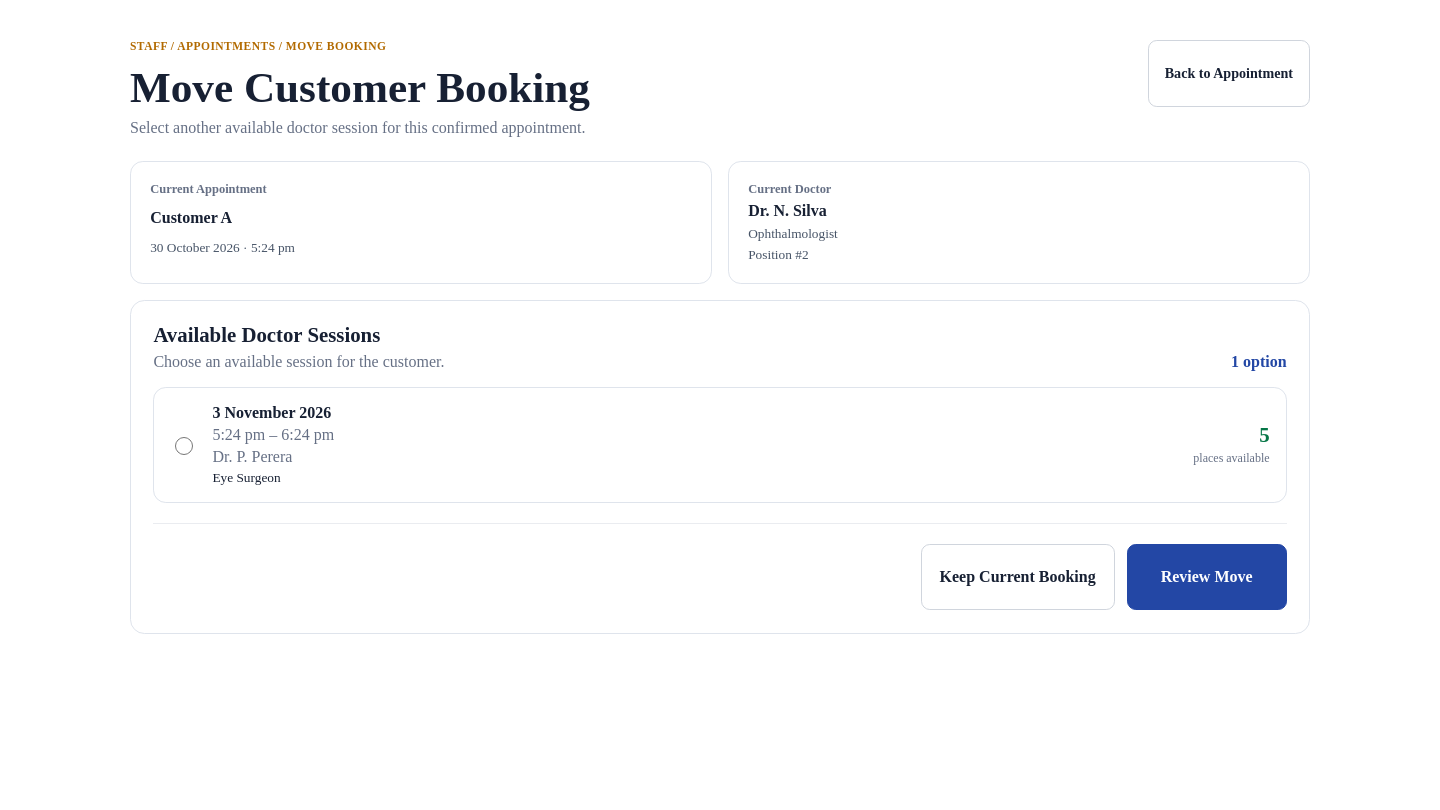
Test: StaffMoveAppointmentPage › shows BOOKING_WINDOW reassignment conflicts safely
Check: the text "Dr. P. Perera" is shown, box [212,448,292,464]
Step 1. Click the radio button → (184, 446), box [175,437,193,455]
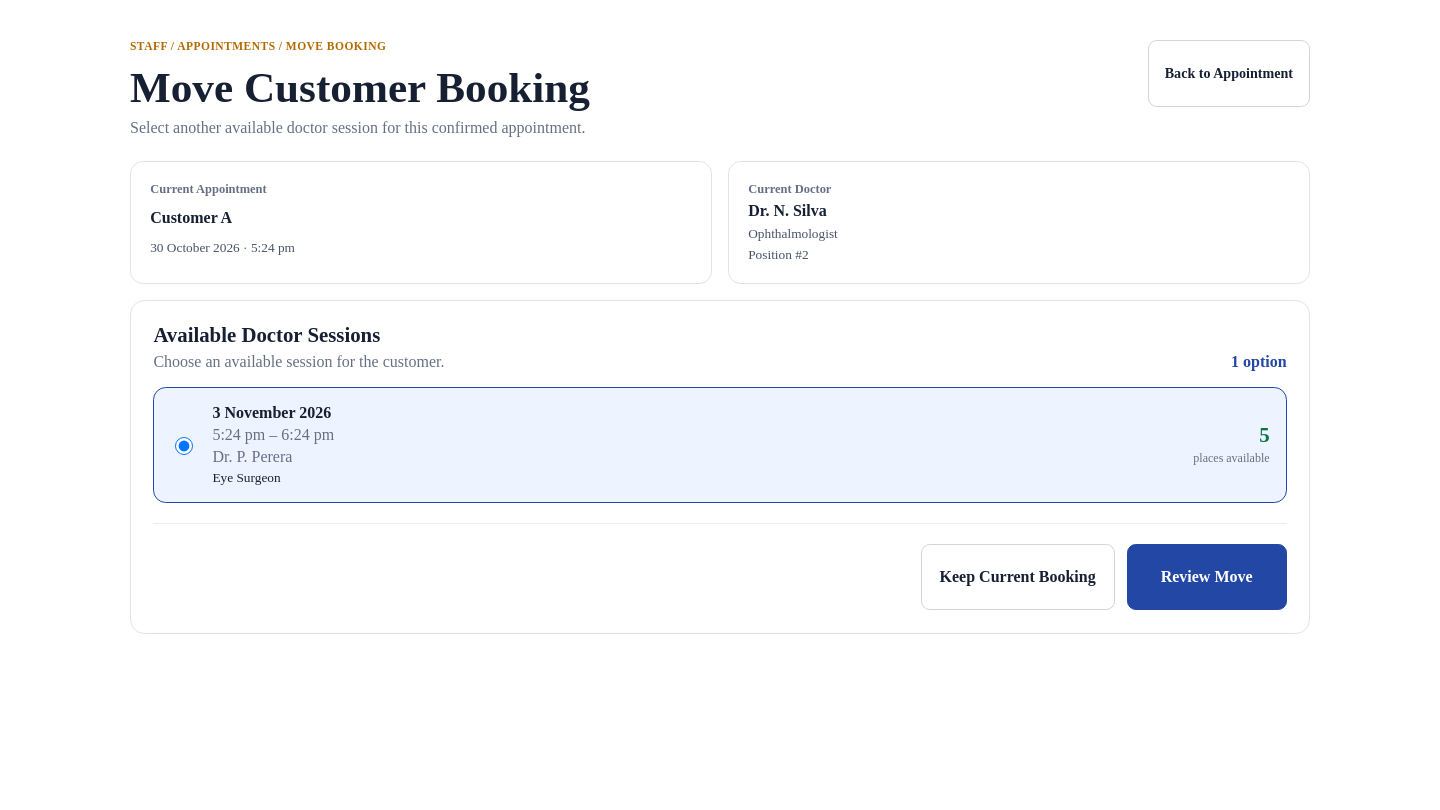
Step 2. Click the button "Review Move" → (1207, 577), box [1127,544,1287,610]
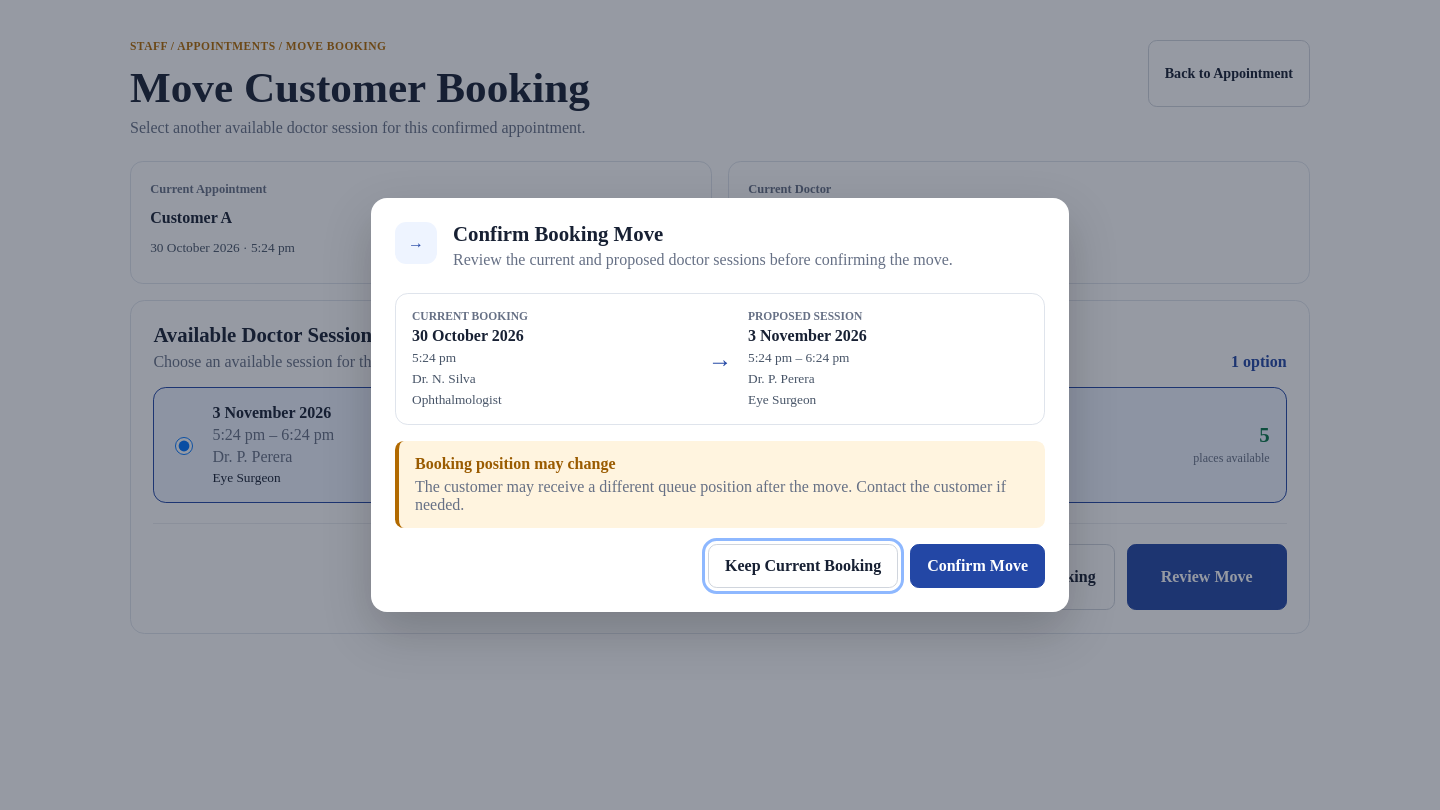
Step 3. Click the button "Confirm Move" → (978, 566), box [910,544,1045,588]
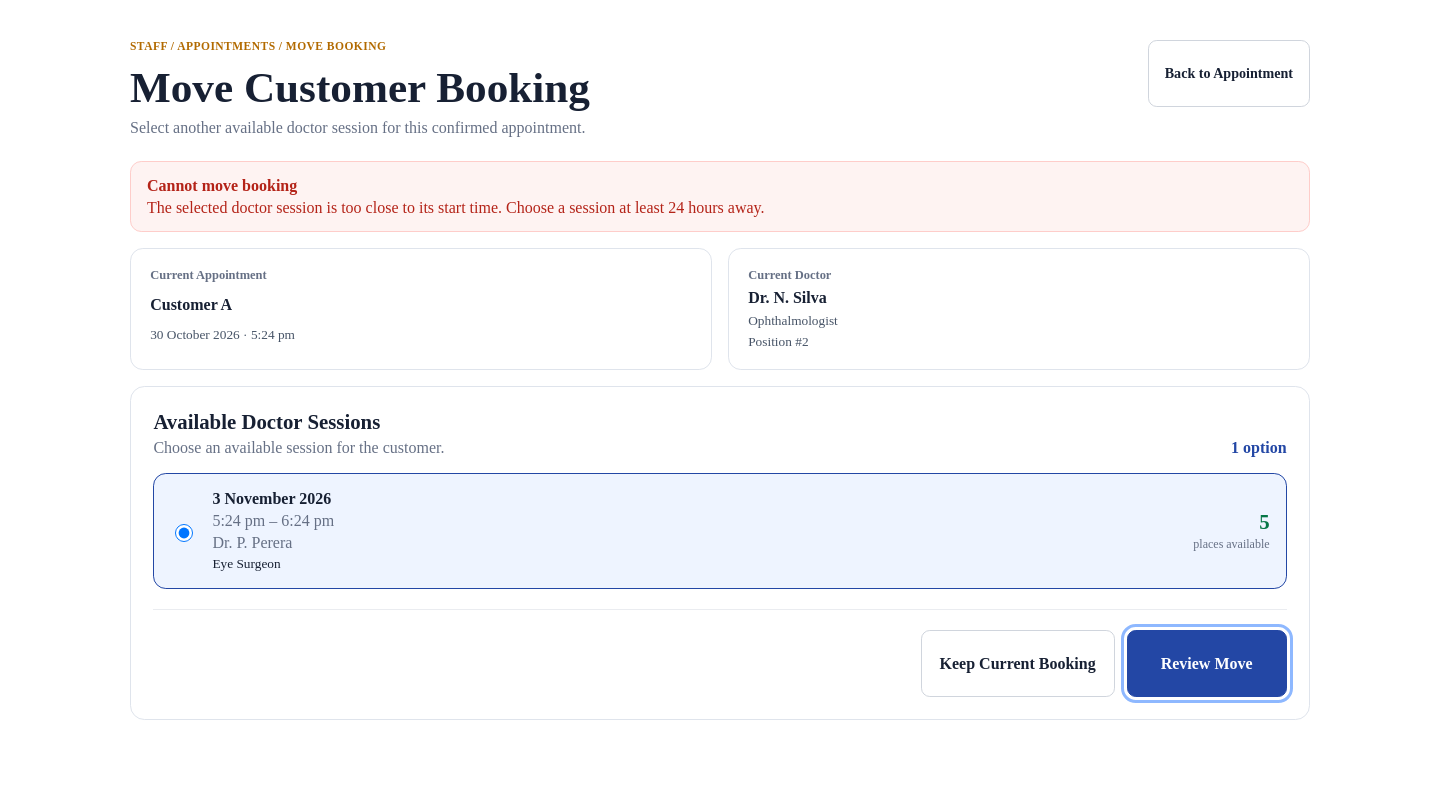
Check: the message shows "at least 24 hours away", box [147,199,764,216]
